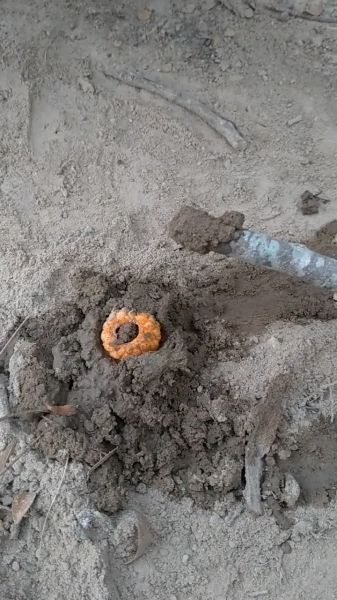eggs: (94, 304, 165, 362)
